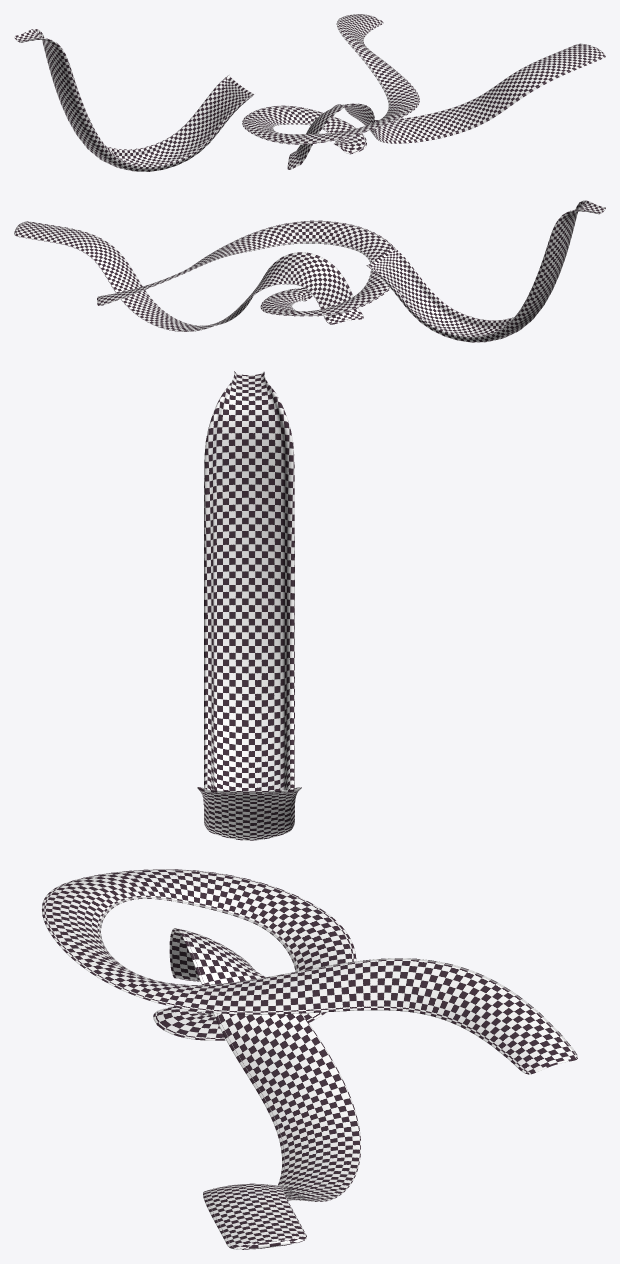
File: A2_map.fbx
3 renders of one model, top to bottom at view 1: azimuth 30°, elevation 25°; view 2: azimuth 150°, elevation 25°; view 3: azimuth 270°, elevation 25°, orthographic. The views are drawn at different scales.
Visible parts, largest first — view 1: Plane.002, GO1, GO2; view 2: GO1, Plane.002, GO2; view 3: Plane.002, GO2, GO1.
Boxes of the visible parts, x1,y1,x2,y2 form: Plane.002: (14,29,254,171); GO1: (287,43,605,169); GO2: (242,14,419,154); GO1: (14,221,363,331); Plane.002: (366,200,605,342); GO2: (97,220,393,316); Plane.002: (197,371,301,840); GO2: (42,869,577,1074); GO1: (169,928,360,1249).
Bounding box in the file's own units: 17378 × 5926 × 6937.
